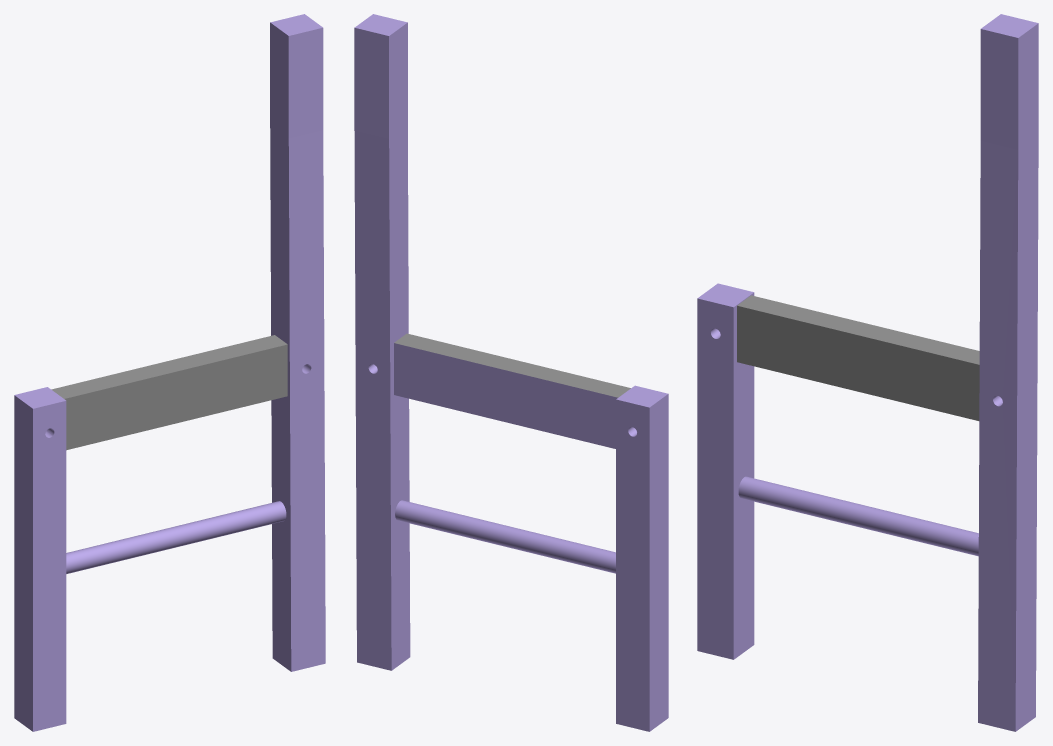
File: hogerSidaCol.obj
The picture shows the model from 3 angles, left to right: view 1: azimuth 30°, elevation 25°; view 2: azimuth 150°, elevation 25°; view 3: azimuth 330°, elevation 25°; orthographic projection. The views are drawn at different scales.
Parts seen in each view (by area): view 1: sida; view 2: sida; view 3: sida.
Part boxes in pixels (box(x1,y1,x2,y2)): sida: box(14, 14, 325, 731); sida: box(354, 14, 668, 731); sida: box(697, 14, 1038, 731).
Bounding box in the file's own units: 260 × 539 × 32.53.
